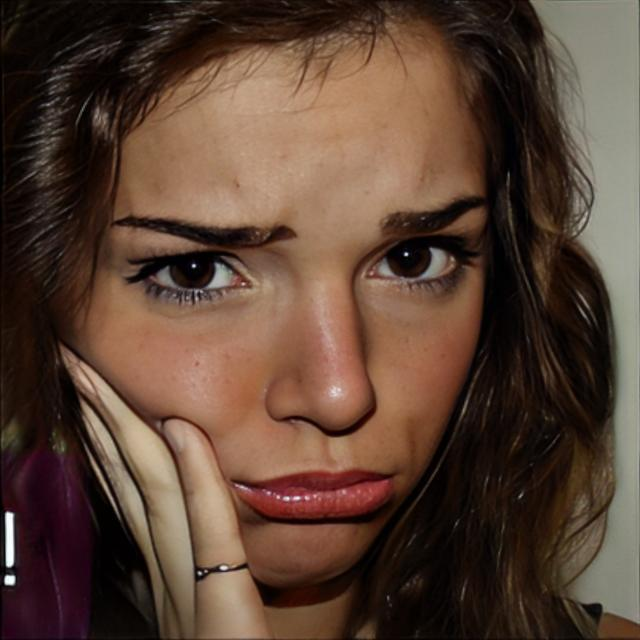sad: (78, 19, 494, 598)
